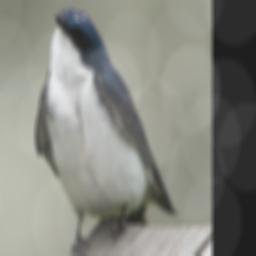Swallow: (33, 7, 177, 256)
